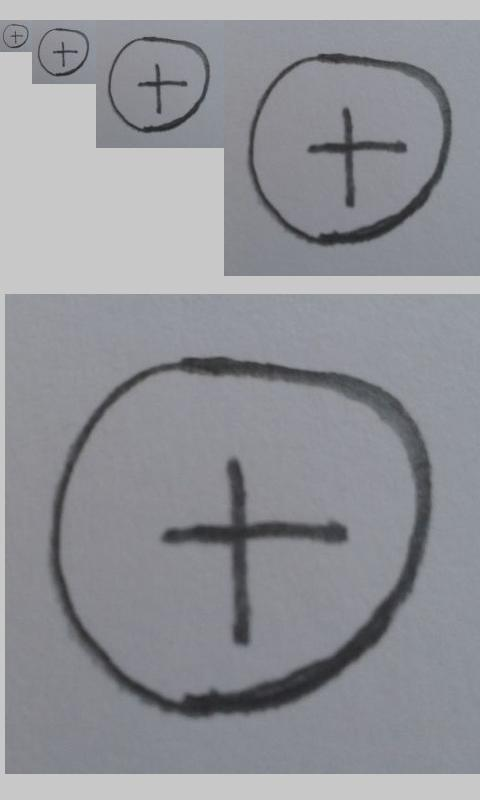button: (50, 355, 435, 718), (246, 52, 453, 245), (107, 36, 210, 133), (37, 27, 90, 77), (2, 23, 29, 49)
